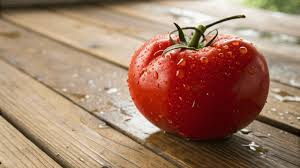tomate: (129, 11, 266, 143)
